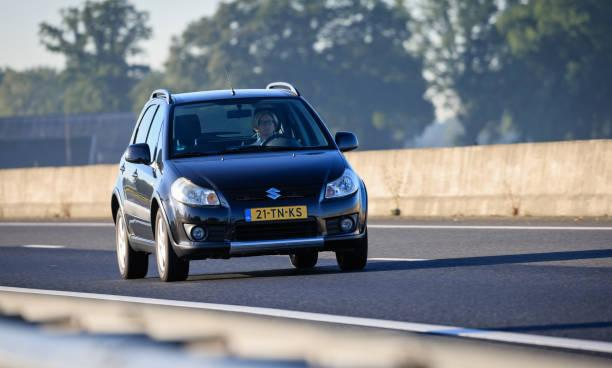suzuki: (260, 184, 287, 203)
